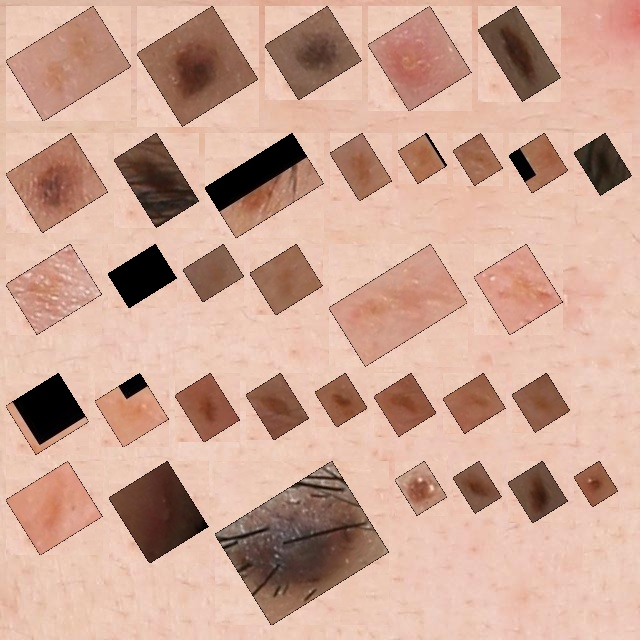melasma: (340, 255, 456, 355), (17, 17, 120, 110), (216, 144, 313, 227), (17, 472, 91, 544), (17, 255, 91, 323), (485, 255, 552, 323), (17, 384, 78, 443), (106, 384, 158, 436), (261, 255, 312, 304), (119, 255, 166, 297), (257, 384, 298, 429), (341, 144, 381, 190), (385, 384, 425, 425), (454, 384, 494, 422), (520, 144, 557, 182), (194, 255, 233, 291), (523, 384, 559, 421), (464, 144, 492, 174), (409, 144, 436, 172)
nevus: (226, 472, 378, 614), (148, 17, 247, 115), (17, 144, 97, 221), (276, 17, 351, 88), (125, 144, 188, 216), (489, 17, 550, 90), (186, 384, 229, 431), (519, 472, 557, 512), (585, 144, 621, 184), (406, 472, 436, 504), (464, 472, 491, 502), (585, 472, 607, 496)
pustule: (379, 17, 460, 100), (120, 472, 197, 552)
